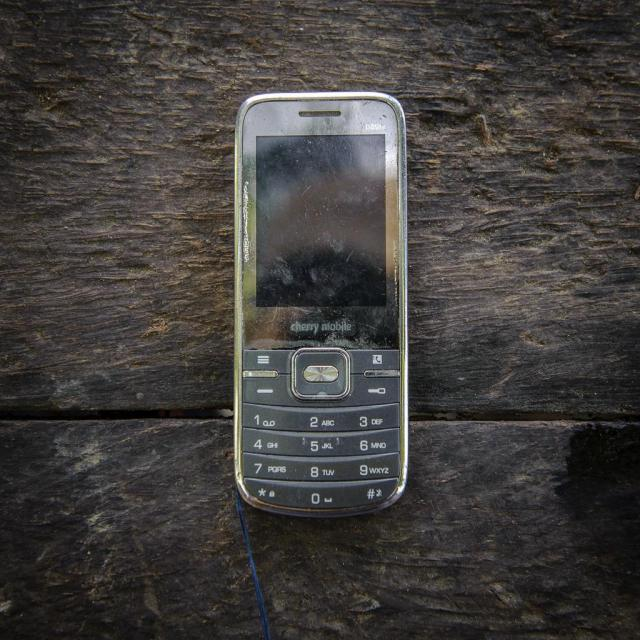Phone: (232, 88, 410, 516)
